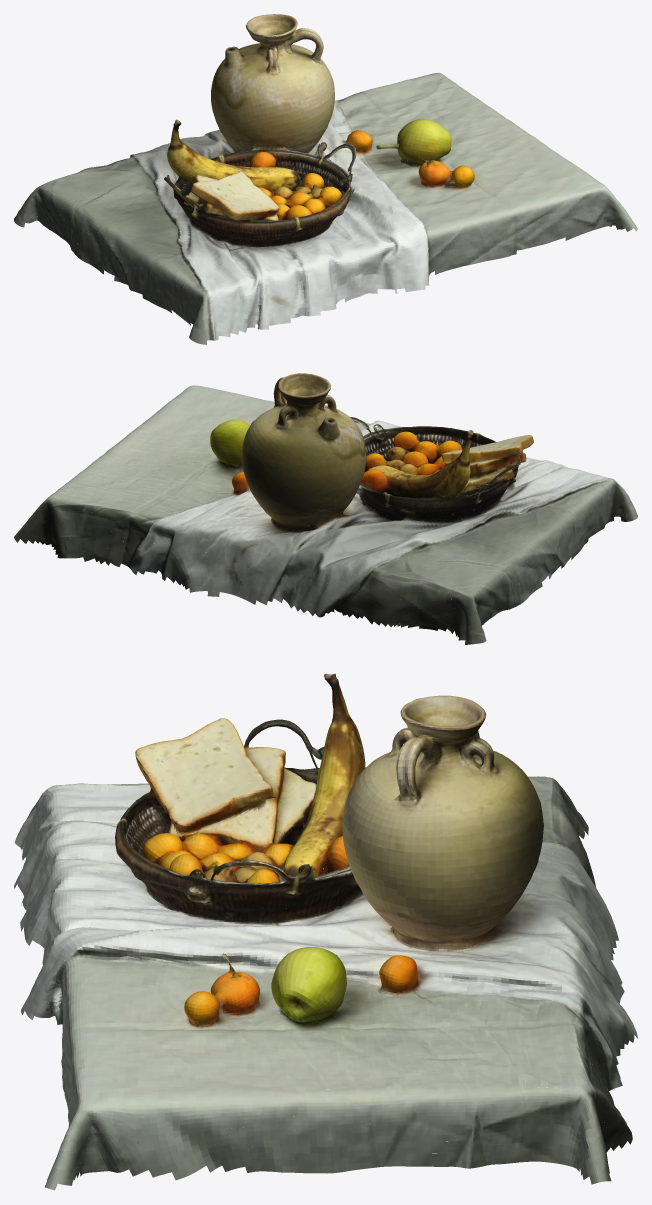
Rendered from 静物_其它_陶罐面包水果01_opt.glb.
3 views of the same model, one above another, from view 1: azimuth 30°, elevation 25°; view 2: azimuth 150°, elevation 25°; view 3: azimuth 270°, elevation 25° (orthographic). The views are drawn at different scales.
Parts seen in each view (by area): view 1: surfaceShader1SG, surfaceShader1SG_2, surfaceShader1SG_4, surfaceShader1SG_6; view 2: surfaceShader1SG_4, surfaceShader1SG, surfaceShader1SG_2, surfaceShader1SG_6; view 3: surfaceShader1SG_4, surfaceShader1SG_2, surfaceShader1SG, surfaceShader1SG_6.
Boxes of the visible parts, left/top/right/bottom form: surfaceShader1SG: left=16, top=28, right=637, bottom=344; surfaceShader1SG_2: left=144, top=14, right=610, bottom=258; surfaceShader1SG_4: left=136, top=75, right=626, bottom=264; surfaceShader1SG_6: left=14, top=45, right=460, bottom=341; surfaceShader1SG_4: left=31, top=385, right=532, bottom=617; surfaceShader1SG: left=41, top=382, right=637, bottom=644; surfaceShader1SG_2: left=162, top=373, right=416, bottom=604; surfaceShader1SG_6: left=14, top=394, right=637, bottom=643; surfaceShader1SG_4: left=39, top=673, right=632, bottom=1176; surfaceShader1SG_2: left=57, top=695, right=633, bottom=1119; surfaceShader1SG: left=14, top=673, right=637, bottom=1190; surfaceShader1SG_6: left=14, top=675, right=627, bottom=1184.
Size of the model in its own units: 1.64 by 0.6 by 1.18.
1 material, 1 textured.
